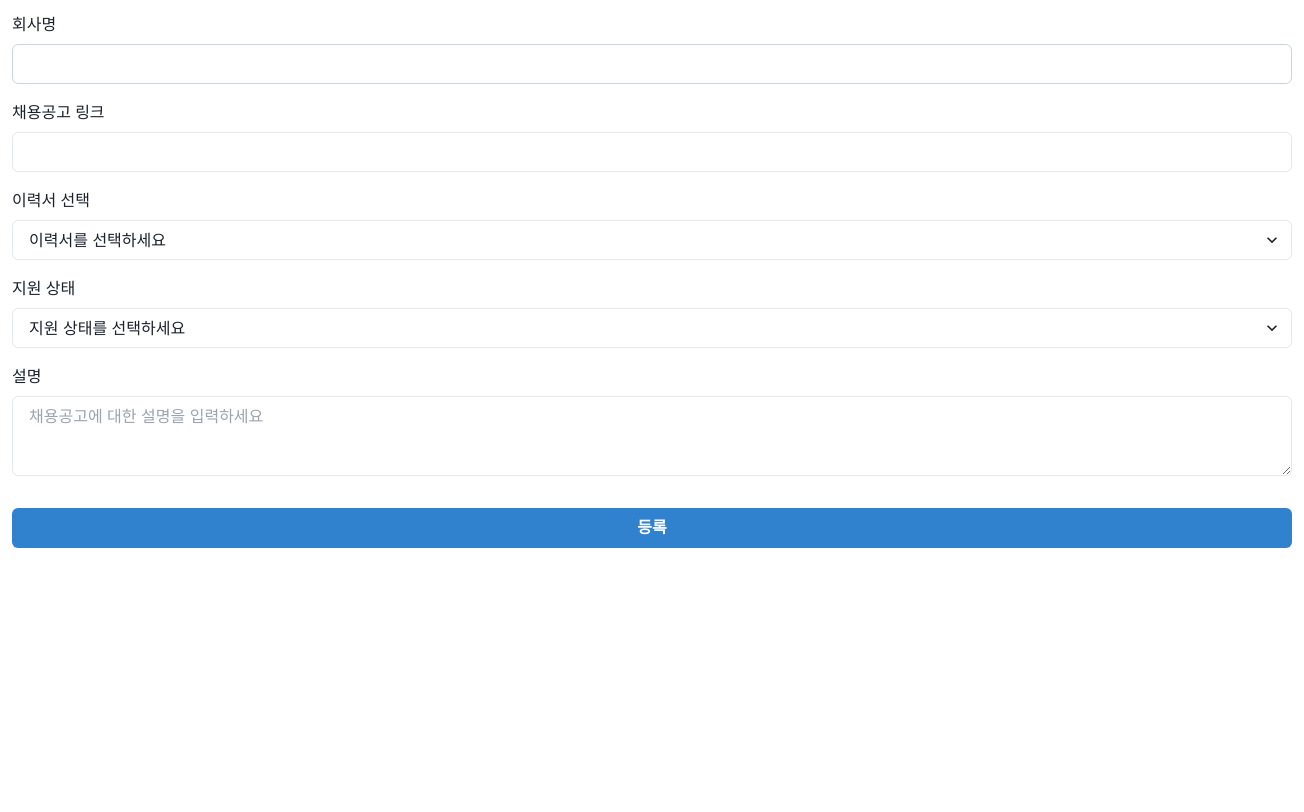
Test: 관심기업 등록 폼 › 필수 필드를 입력하지 않으면 에러 메시지를 표시해야 한다
Click the button "등록".
click(652, 528)  # box [12, 508, 1292, 548]
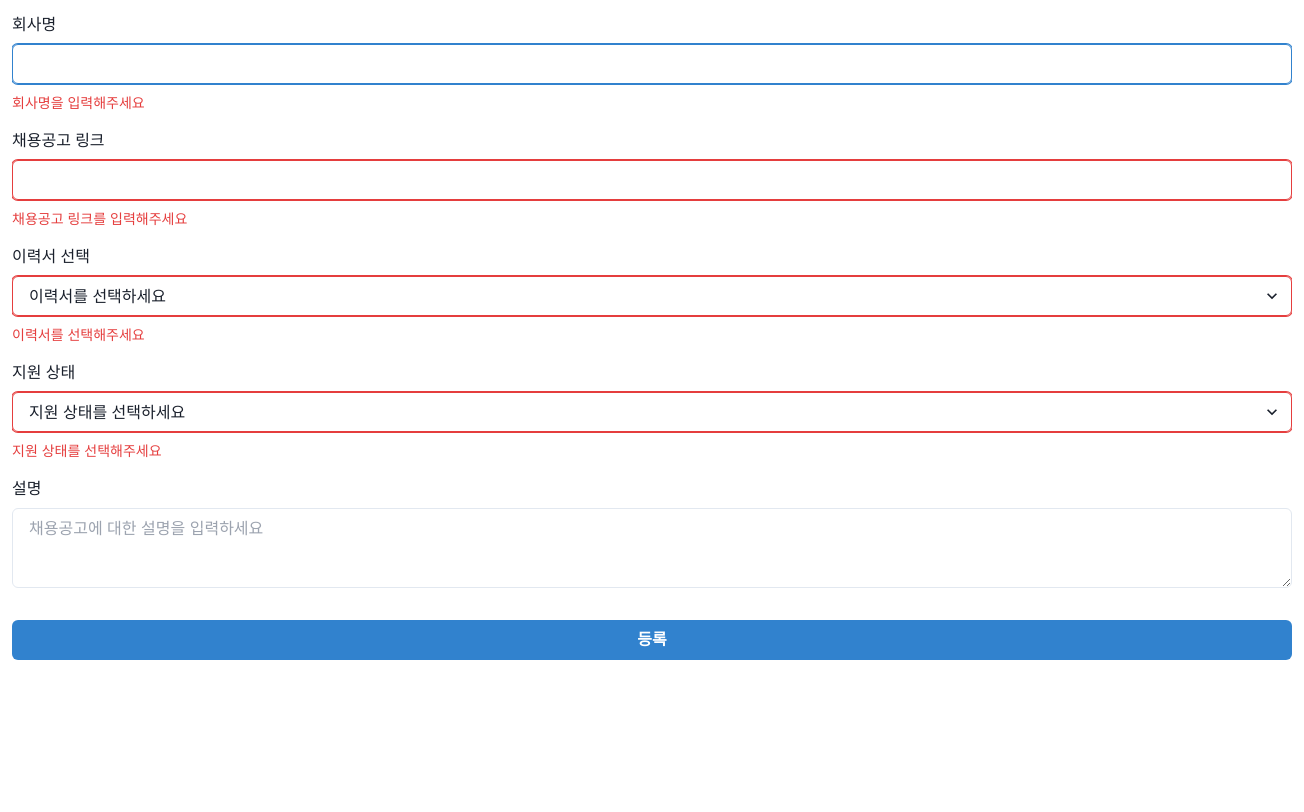
expect the text "회사명을 입력해주세요" is shown: met, box [12, 94, 145, 111]
expect the text "채용공고 링크를 입력해주세요" is shown: met, box [12, 210, 187, 227]
